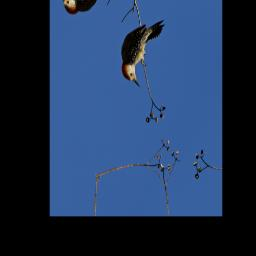Woodpecker: (107, 0, 175, 98)
